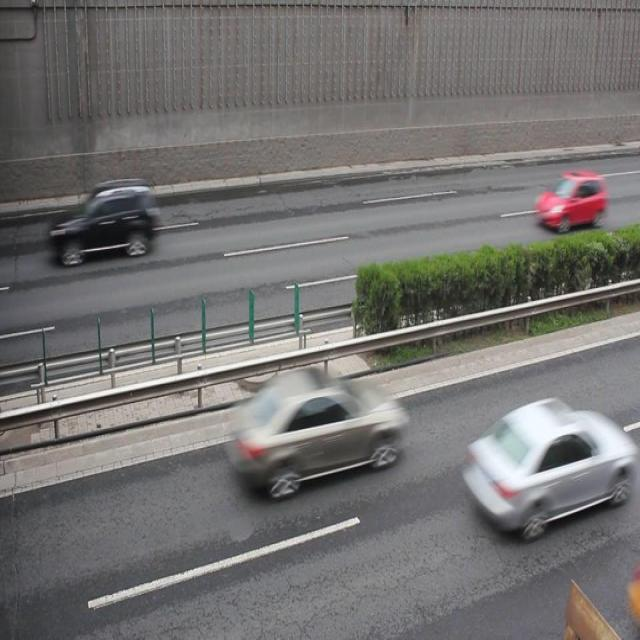car: (460, 394, 628, 536), (228, 365, 406, 495), (47, 176, 158, 264), (533, 169, 605, 230)
